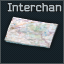Interchange paper map: (0, 0, 64, 64)
